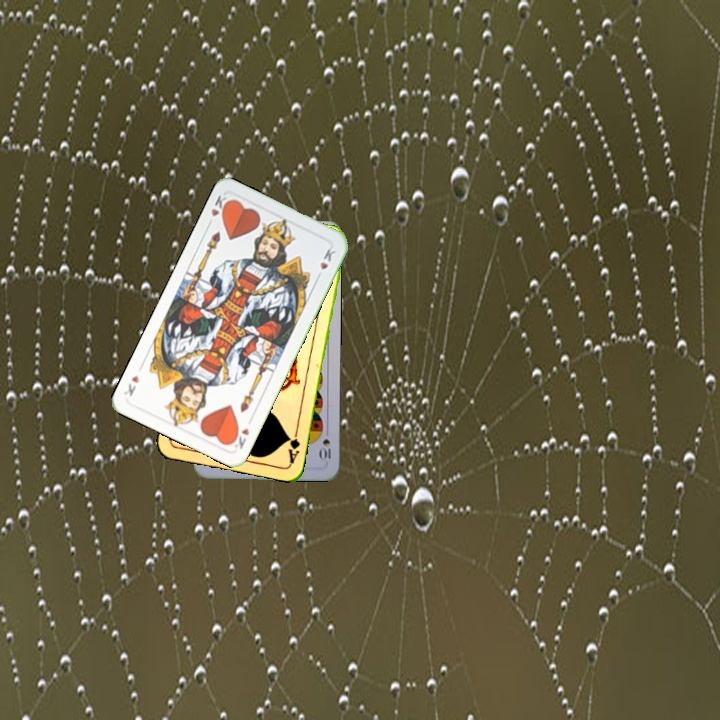GA: (284, 425, 303, 466)
HK: (203, 191, 233, 229), (227, 423, 252, 452)
S10: (316, 424, 333, 463)
